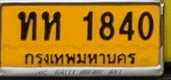txt18: (17, 10, 38, 41)
txt36: (41, 10, 62, 41)
